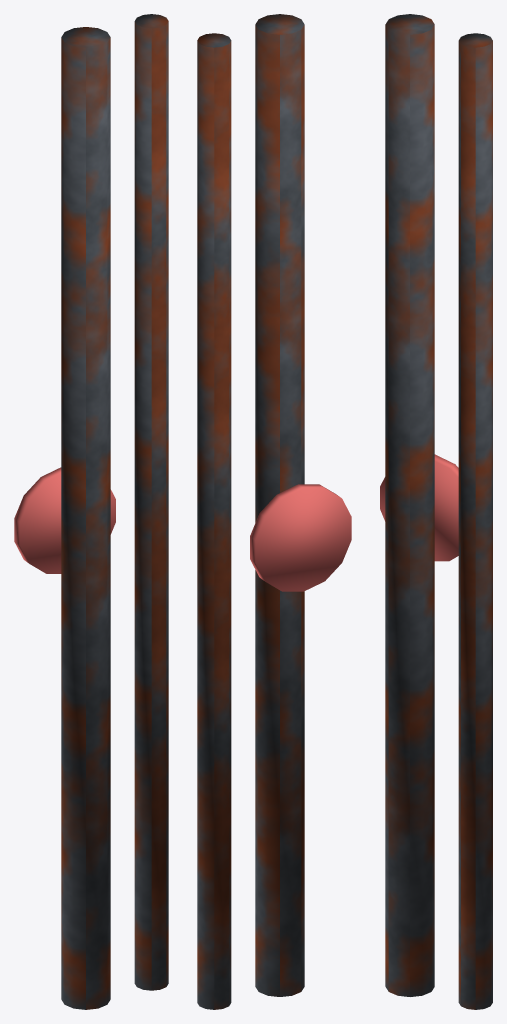
The model's file is prop_pipes.glb.
3 views of the same model, side by side, from view 1: azimuth 30°, elevation 25°; view 2: azimuth 210°, elevation 25°; view 3: azimuth 330°, elevation 25° (orthographic).
Visible parts, largest first — view 1: PipeA, PipeB, ValveWheel; view 2: PipeA, PipeB, ValveWheel; view 3: PipeA, PipeB, ValveWheel.
Boxes of the visible parts, x1,y1,x2,y2 form: PipeA: [61, 27, 110, 1009]; PipeB: [134, 14, 168, 990]; ValveWheel: [14, 467, 115, 573]; PipeA: [255, 14, 304, 996]; PipeB: [197, 33, 231, 1009]; ValveWheel: [250, 484, 351, 591]; PipeA: [385, 14, 434, 996]; PipeB: [458, 33, 492, 1009]; ValveWheel: [380, 454, 458, 561].
Bounding box in the file's own units: 0.3912 × 2.8 × 0.1901.
Materials: 2 (1 with a texture image).
